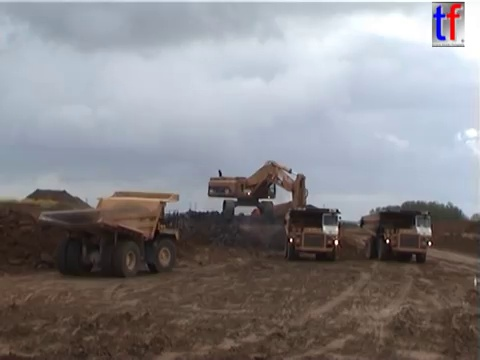excavator: (206, 158, 313, 233), (248, 199, 316, 226)
truck: (36, 189, 180, 279), (358, 208, 434, 264), (282, 204, 342, 262)
